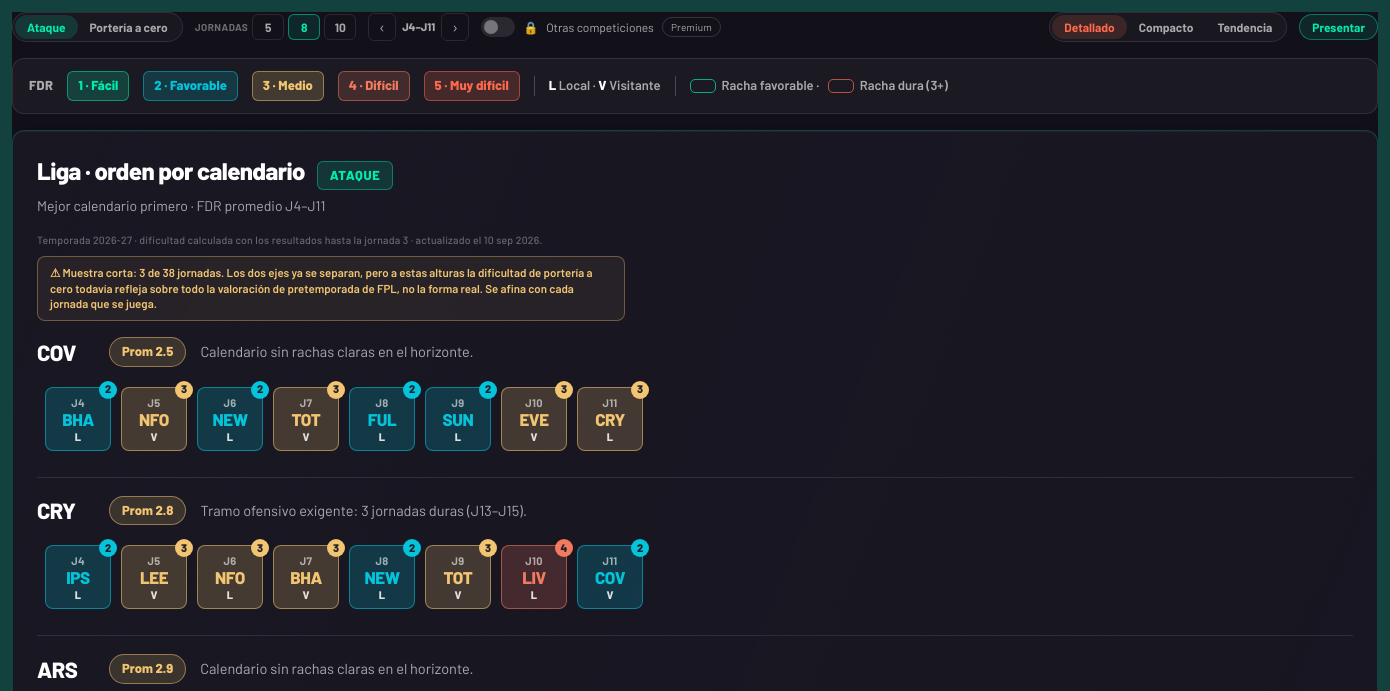
Scenario: the /fixtures board › Spanish: the locked switch is what it was
The image size is (1390, 691).
Expected: the text "J4–J11" is shown, x1=402 y1=19 x2=435 y2=35
What coordinates should you click on to do the following:
click the switch with test id "locked-competitions-toggle"
I would click on:
 (601, 27)
Its box is x1=481 y1=17 x2=721 y2=37.
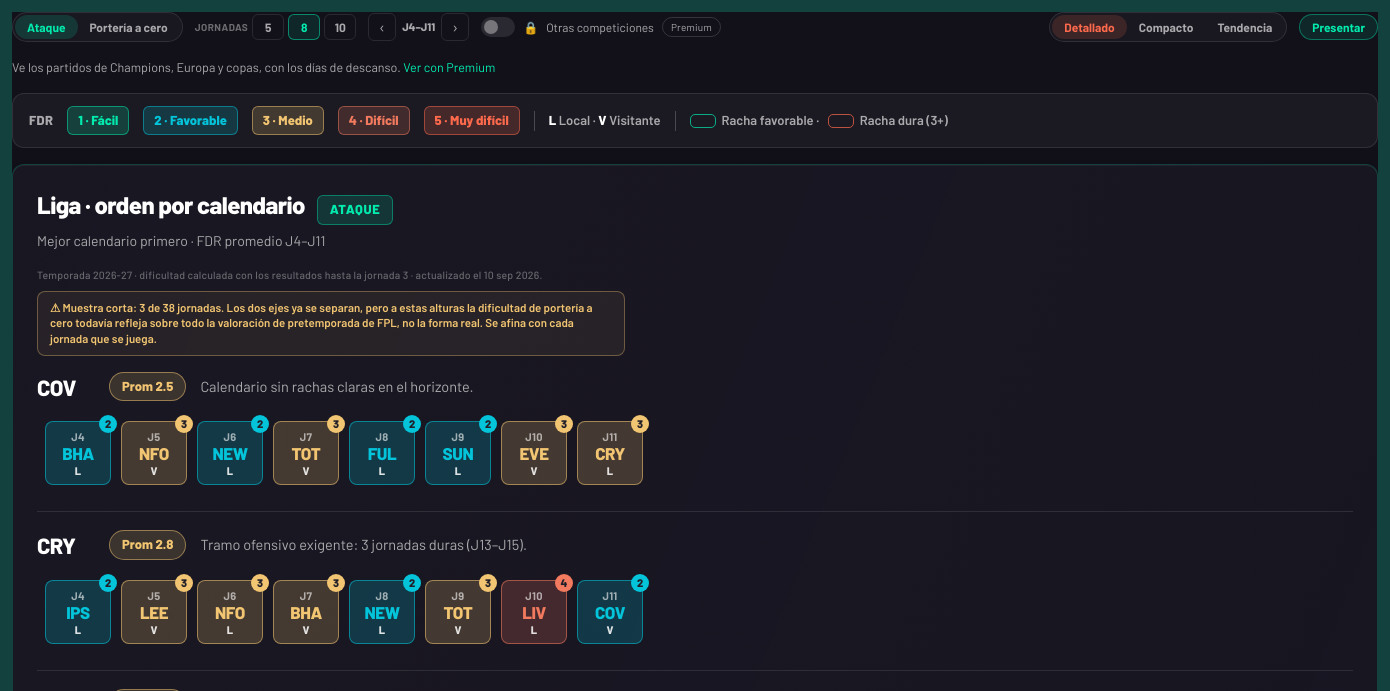
Result: the message with test id "locked-competitions-line" shows "Ve los partidos de Champions, Europa y copas, con los días de descanso." at x1=12 y1=59 x2=401 y2=75
Result: the link reads "Ver con Premium" at x1=403 y1=59 x2=495 y2=75
